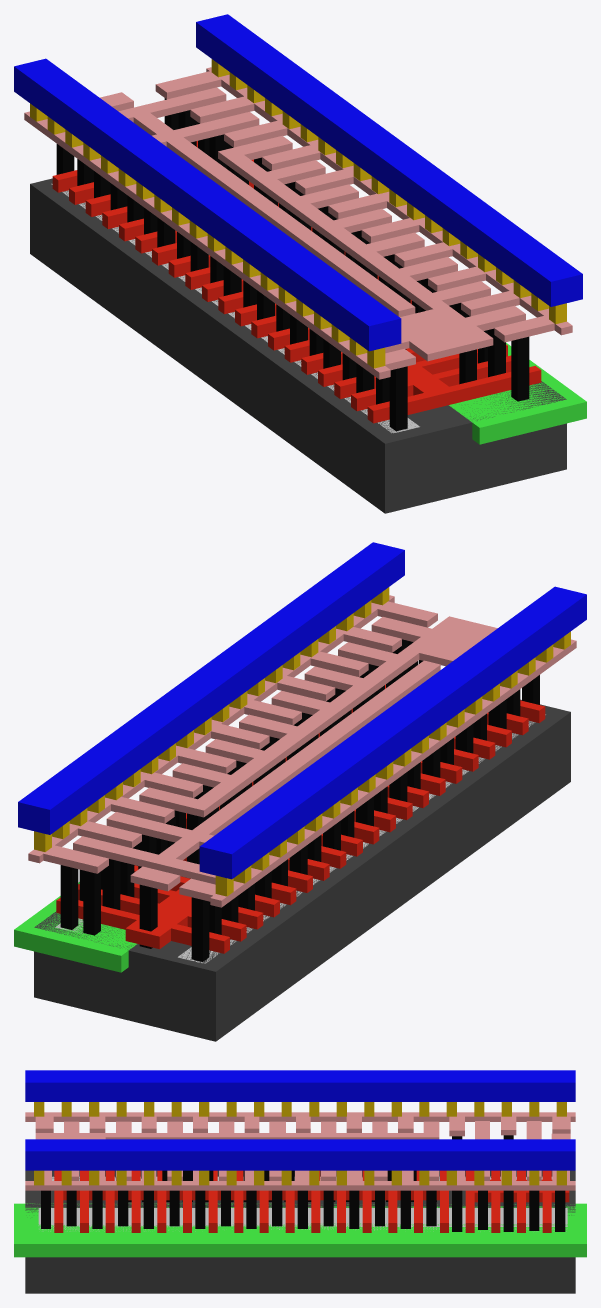
File: sky130_fd_sc_hd__clkbuf_16.obj
3 renders of one model, top to bottom at view 1: azimuth 30°, elevation 25°; view 2: azimuth 150°, elevation 25°; view 3: azimuth 270°, elevation 25°, orthographic. The views are drawn at different scales.
Parts seen in each view (by area): view 1: subs, metal1, li, licon, poly, mcon, nwell, diff; view 2: subs, metal1, li, licon, poly, mcon, nwell, diff; view 3: metal1, subs, li, nwell, poly, licon, mcon, tap.
Part boxes in pixels (x1,y1,x2,y2): subs: (30,178,566,513); metal1: (14,14,582,351); li: (24,67,572,379); licon: (56,98,529,431); poly: (52,141,541,423); mcon: (30,59,566,368); nwell: (449,342,586,444); diff: (51,183,419,433); subs: (34,699,570,1041); metal1: (18,542,586,879); li: (28,595,576,907); licon: (60,639,539,961); poly: (56,684,545,953); mcon: (34,587,570,896); nwell: (14,882,136,972); diff: (178,714,545,963); metal1: (25,1070,575,1170); subs: (25,1170,575,1293); li: (25,1112,575,1190); nwell: (14,1203,586,1257); poly: (54,1170,569,1232); licon: (41,1135,565,1231); mcon: (34,1102,566,1185); tap: (38,1208,567,1231).
Size of the model in its own units: 3.2 by 2.74 by 9.58.
